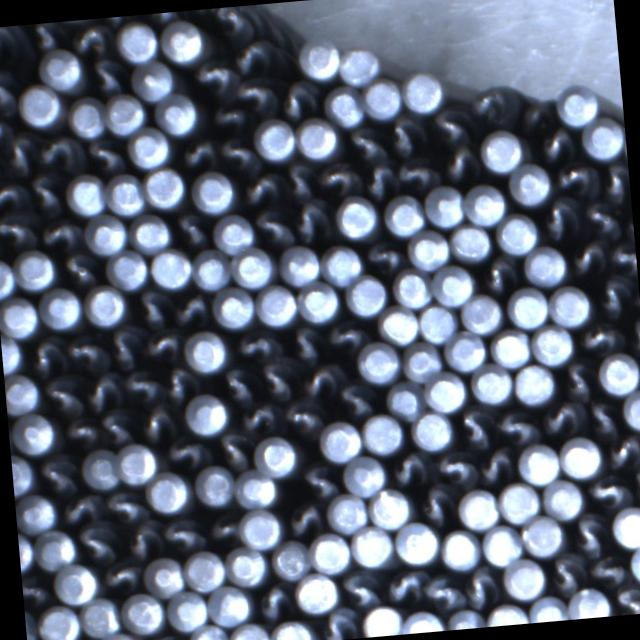tool: (392, 518, 440, 564), (158, 18, 206, 64), (38, 284, 86, 330), (82, 210, 129, 256), (182, 390, 230, 435), (516, 440, 562, 486), (462, 180, 508, 226), (316, 418, 362, 464), (18, 81, 64, 127), (189, 168, 235, 214), (496, 480, 541, 526), (252, 116, 298, 161), (354, 339, 400, 384), (255, 280, 300, 326), (554, 82, 600, 127), (145, 469, 191, 514), (332, 193, 378, 238), (252, 433, 298, 478), (183, 328, 229, 373), (13, 410, 58, 456), (581, 116, 627, 161), (480, 128, 525, 173), (507, 161, 552, 206), (54, 560, 100, 604), (504, 284, 550, 328), (422, 182, 466, 228), (298, 38, 344, 82), (558, 434, 602, 480), (480, 522, 526, 566), (442, 328, 488, 372), (292, 570, 338, 614), (342, 272, 388, 316), (116, 18, 160, 64), (207, 582, 253, 626), (520, 244, 566, 288), (120, 590, 166, 634), (341, 454, 386, 498), (367, 486, 412, 530), (102, 91, 147, 135), (181, 548, 226, 592), (349, 522, 394, 566), (459, 290, 504, 334), (547, 281, 591, 326), (470, 360, 515, 404), (501, 556, 546, 600), (296, 280, 341, 324), (38, 45, 82, 90), (212, 284, 257, 328), (238, 506, 283, 550), (230, 246, 275, 290), (153, 92, 198, 136), (306, 531, 352, 574), (430, 262, 474, 306), (455, 486, 499, 530), (512, 362, 556, 406), (360, 410, 404, 454), (118, 440, 162, 484), (84, 282, 128, 326), (294, 116, 338, 160), (142, 554, 186, 598), (383, 191, 427, 235), (320, 242, 364, 286), (34, 526, 78, 570), (520, 514, 565, 557), (597, 349, 640, 394), (65, 171, 108, 216), (529, 322, 574, 365), (495, 212, 540, 255), (405, 229, 450, 272), (148, 246, 194, 288), (105, 170, 147, 216), (440, 526, 483, 570), (424, 371, 468, 414), (278, 244, 322, 287), (402, 70, 446, 113), (166, 588, 210, 631), (324, 492, 368, 535), (194, 462, 236, 507), (225, 544, 268, 587), (322, 82, 365, 125), (410, 410, 454, 452), (489, 326, 533, 368), (540, 478, 584, 520), (79, 596, 123, 638), (143, 166, 187, 208), (212, 212, 256, 254), (129, 126, 173, 168), (128, 211, 172, 253), (108, 248, 152, 290), (338, 44, 382, 86), (400, 339, 444, 381), (66, 94, 107, 139), (13, 248, 56, 290), (14, 492, 57, 534), (361, 76, 402, 120), (79, 448, 120, 492), (35, 601, 81, 640), (390, 268, 432, 310), (192, 246, 232, 290), (234, 468, 278, 508), (271, 540, 312, 582), (378, 304, 421, 344), (0, 294, 39, 338), (382, 381, 423, 422), (448, 221, 490, 261), (416, 302, 457, 342), (4, 370, 42, 412), (566, 584, 610, 620), (361, 602, 403, 637), (611, 503, 640, 548), (528, 592, 569, 622), (484, 600, 529, 626), (402, 608, 446, 634), (268, 616, 315, 640), (10, 454, 36, 496), (0, 332, 23, 373), (446, 607, 487, 630), (227, 620, 270, 640), (621, 387, 640, 430), (187, 622, 229, 640), (18, 531, 36, 571), (0, 257, 16, 299), (97, 629, 146, 640), (23, 605, 38, 640), (629, 542, 640, 585)
tool_b: (468, 80, 521, 128), (38, 371, 85, 419), (32, 451, 80, 496), (590, 272, 635, 320), (384, 111, 429, 158), (34, 130, 82, 174), (565, 512, 610, 558), (73, 520, 119, 565), (579, 197, 624, 243), (250, 204, 295, 249), (255, 356, 299, 402), (23, 170, 66, 217), (237, 165, 284, 208), (190, 57, 238, 99), (98, 486, 148, 526), (230, 326, 280, 366), (130, 285, 174, 330), (451, 406, 494, 452), (290, 198, 333, 244), (104, 322, 146, 369), (233, 76, 280, 118), (421, 569, 466, 612), (494, 405, 540, 447), (414, 482, 456, 528), (539, 195, 581, 241), (62, 332, 108, 374), (337, 568, 382, 610), (82, 369, 124, 414), (137, 400, 182, 442), (81, 134, 126, 176), (552, 159, 598, 200), (339, 122, 385, 163), (37, 214, 84, 254), (230, 38, 278, 77), (544, 550, 586, 594), (120, 519, 164, 561), (384, 564, 428, 606), (428, 105, 473, 146), (556, 359, 597, 404), (298, 359, 344, 399), (584, 472, 630, 512), (432, 448, 478, 488), (313, 158, 359, 198), (462, 564, 502, 609), (392, 152, 437, 192), (234, 398, 280, 437), (278, 77, 320, 119), (532, 125, 576, 165), (99, 556, 143, 596), (159, 515, 204, 554), (162, 432, 208, 470), (584, 551, 630, 589), (475, 445, 516, 487), (118, 365, 161, 405), (538, 400, 581, 440), (297, 460, 340, 500), (215, 132, 258, 172), (213, 429, 253, 472), (278, 396, 322, 435), (0, 131, 38, 176), (568, 236, 609, 277), (283, 323, 324, 364), (599, 432, 640, 473), (284, 498, 326, 538), (26, 334, 68, 374), (389, 448, 431, 488), (440, 141, 480, 183), (70, 18, 112, 58), (581, 398, 621, 440), (575, 318, 621, 354), (202, 96, 248, 132), (253, 580, 294, 620), (139, 326, 182, 364), (169, 290, 209, 330), (172, 209, 212, 249), (88, 56, 128, 96), (336, 378, 376, 418), (362, 238, 404, 276), (325, 318, 368, 355), (0, 209, 37, 252), (57, 414, 101, 450), (177, 133, 218, 171), (58, 491, 102, 526), (316, 606, 361, 640), (214, 5, 253, 44), (280, 160, 316, 202), (160, 362, 198, 401), (479, 254, 518, 292), (221, 366, 258, 406), (598, 160, 631, 204), (358, 158, 396, 196), (60, 250, 100, 286), (100, 406, 136, 445), (204, 512, 240, 546), (606, 238, 637, 276), (26, 22, 62, 52), (0, 66, 20, 119), (22, 572, 52, 607), (609, 583, 640, 616), (0, 177, 25, 213), (0, 25, 22, 63), (622, 314, 640, 353), (629, 464, 640, 508), (147, 631, 188, 640), (0, 116, 9, 146)
